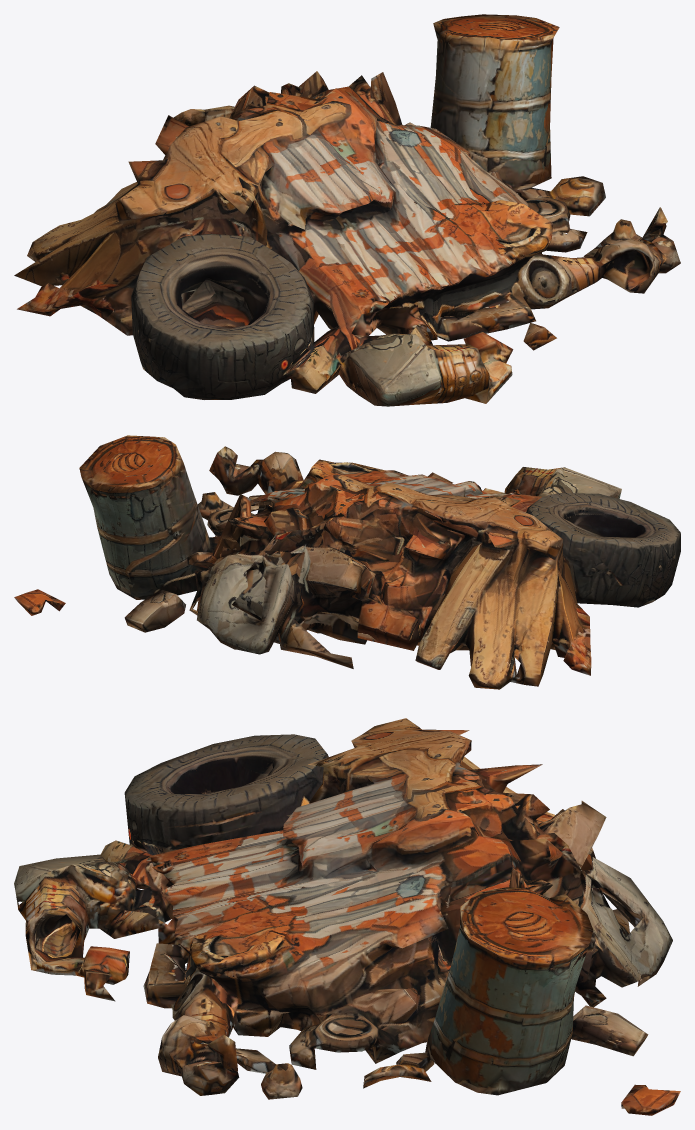
File: EX_Env_JunkPile.fbx
3 renders of one model, top to bottom at view 1: azimuth 30°, elevation 25°; view 2: azimuth 150°, elevation 25°; view 3: azimuth 270°, elevation 25°, orthographic. The views are drawn at different scales.
Visible parts, largest first — view 1: texture_mapping; view 2: texture_mapping; view 3: texture_mapping.
Part boxes in pixels (x1=…): texture_mapping: x1=14, y1=14, x2=680, y2=406; texture_mapping: x1=14, y1=435, x2=680, y2=689; texture_mapping: x1=14, y1=718, x2=680, y2=1115.
Size of the model in its own units: 0.9034 by 0.8072 by 0.2561.
Materials: 1 (1 with a texture image).
